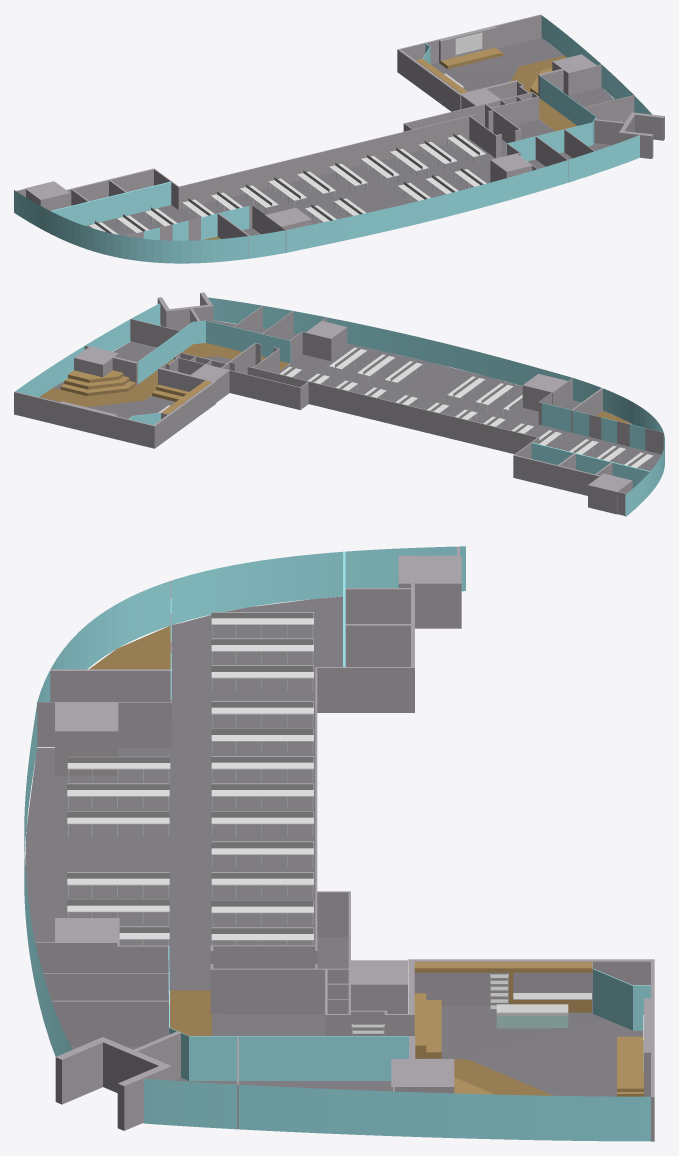
Rendered from WantedOffice.glb.
The picture shows the model from 3 angles, top to bottom: view 1: azimuth 30°, elevation 25°; view 2: azimuth 150°, elevation 25°; view 3: azimuth 270°, elevation 25°; orthographic projection. The views are drawn at different scales.
Parts seen in each view (by area): view 1: Office_Wall, Workstation_Floor, NurbsPath.001, NurbsPath, Lounge_Wall_1, Lounge_Floor, Cube.007, Cube, Lounge_Window, Cube.001, Cube.002, LargePillar_1 (+22 smaller); view 2: Office_Wall, Workstation_Floor, NurbsPath.001, Lounge_Wall_1, Cube, NurbsPath, Lounge_Window, Lounge_Wooden_Floor, Cube.001, Cube.007, LargePillar_2, LargePillar_4 (+21 smaller); view 3: Workstation_Floor, Lounge_Window, Office_Wall, NurbsPath, Lounge_Floor, Cube, Lounge_Wall_1, Cube.002, MR_Network_Wall, LargePillar_2, Cube.008, LargePillar_4 (+36 smaller).
Part boxes in pixels (x1=…): Office_Wall: x1=66, y1=81, x2=539, y2=209; Workstation_Floor: x1=86, y1=139, x2=495, y2=235; NurbsPath.001: x1=287, y1=135, x2=639, y2=252; NurbsPath: x1=14, y1=190, x2=286, y2=263; Lounge_Wall_1: x1=397, y1=14, x2=541, y2=111; Lounge_Floor: x1=431, y1=38, x2=564, y2=91; Cube.007: x1=50, y1=181, x2=171, y2=225; Cube: x1=506, y1=75, x2=596, y2=161; Lounge_Window: x1=541, y1=15, x2=651, y2=114; Cube.001: x1=143, y1=206, x2=249, y2=240; Cube.002: x1=619, y1=112, x2=664, y2=158; LargePillar_1: x1=552, y1=54, x2=597, y2=95; Office_Wall: x1=160, y1=342, x2=612, y2=495; Workstation_Floor: x1=277, y1=344, x2=661, y2=471; NurbsPath.001: x1=208, y1=297, x2=571, y2=385; Lounge_Wall_1: x1=14, y1=367, x2=216, y2=448; Cube: x1=138, y1=320, x2=290, y2=383; NurbsPath: x1=572, y1=377, x2=664, y2=516; Lounge_Window: x1=15, y1=303, x2=160, y2=397; Lounge_Wooden_Floor: x1=39, y1=343, x2=289, y2=407; Cube.001: x1=542, y1=403, x2=645, y2=450; Cube.007: x1=531, y1=442, x2=649, y2=488; LargePillar_2: x1=522, y1=374, x2=568, y2=411; LargePillar_4: x1=588, y1=473, x2=632, y2=514; Workstation_Floor: x1=25, y1=596, x2=342, y2=990; Lounge_Window: x1=144, y1=1079, x2=650, y2=1141; Office_Wall: x1=210, y1=583, x2=414, y2=1035; NurbsPath: x1=37, y1=546, x2=465, y2=702; Lounge_Floor: x1=419, y1=1006, x2=643, y2=1096; Cube: x1=168, y1=945, x2=408, y2=1080; Lounge_Wall_1: x1=408, y1=959, x2=654, y2=1141; Cube.002: x1=55, y1=1037, x2=171, y2=1130; MR_Network_Wall: x1=52, y1=1000, x2=168, y2=1046; LargePillar_2: x1=55, y1=702, x2=118, y2=775; Cube.008: x1=50, y1=669, x2=171, y2=715; LargePillar_4: x1=398, y1=555, x2=461, y2=628.
Bounding box in the file's own units: 71.21 × 2.76 × 34.47.
